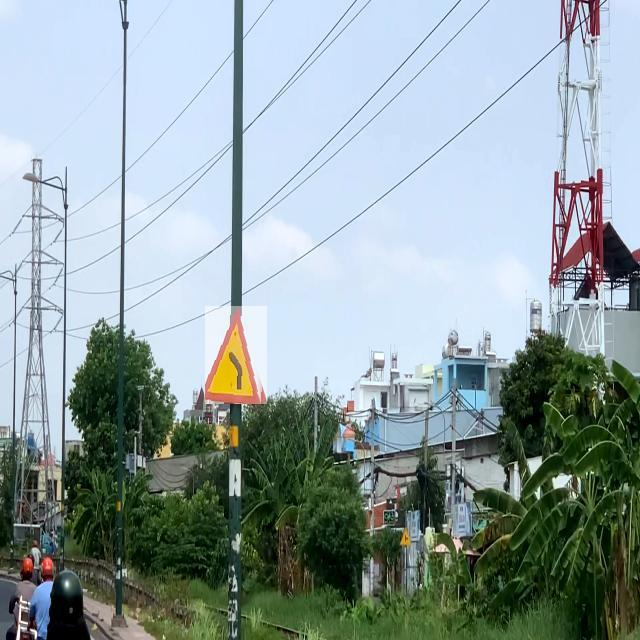W-201a: (205, 306, 267, 404)
